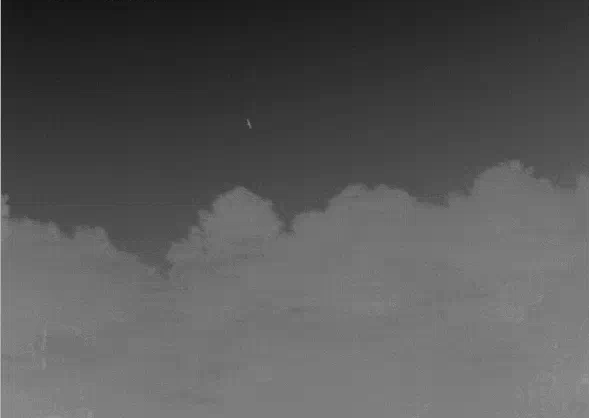dim target: (244, 116, 252, 130)
